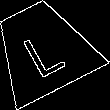L_NW: (16, 19, 69, 78)
